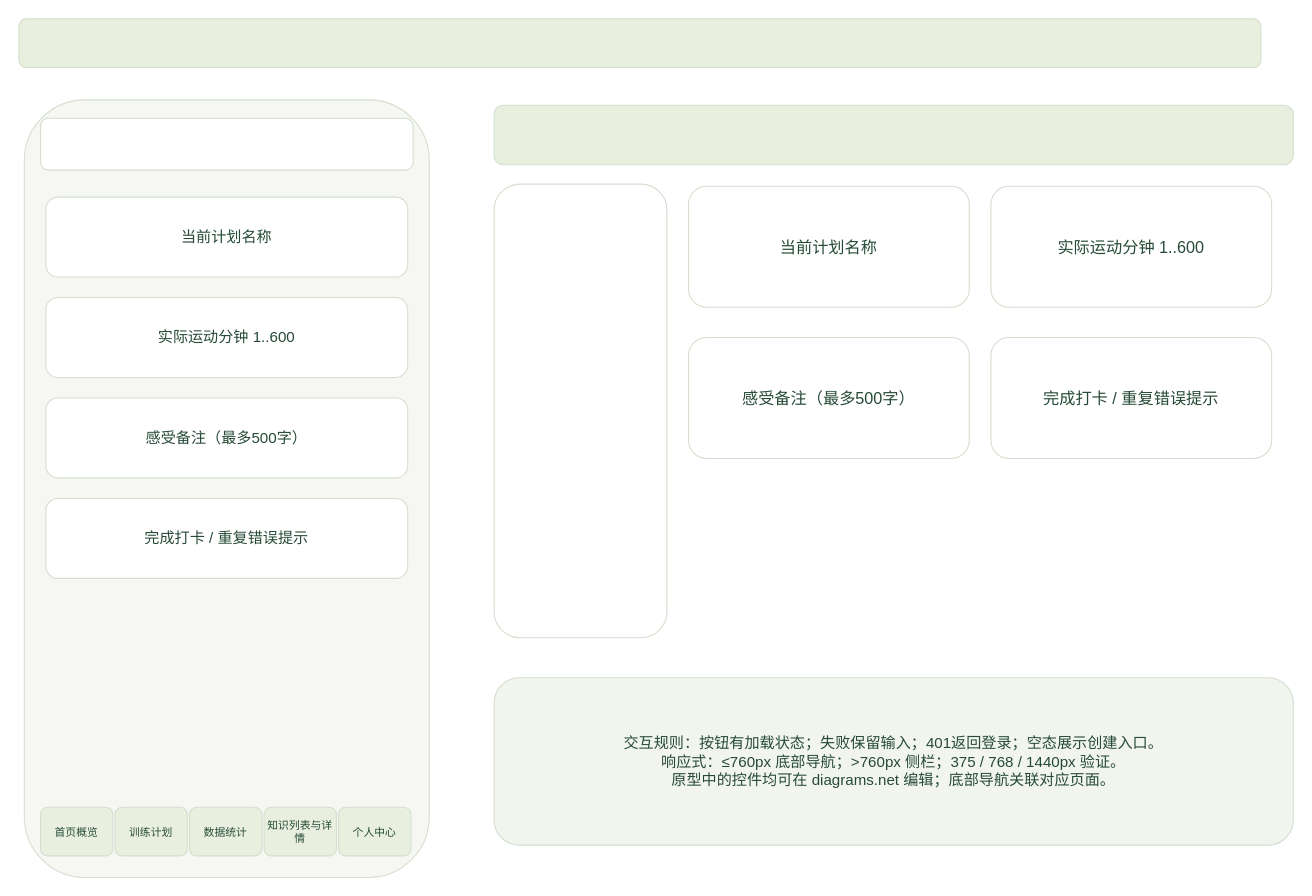
The diagram is 1312 pixels wide and 896 high, and some of its shapes have lost their labels. Each missing label, with the centre of its shape:
"FitStreak EN A" belongs at [226,143].
"FitStreak · 打卡表单" belongs at [639,43].
"FitStreak 今日概览 训练计划 运动数据 健身知识 个人中心" belongs at [580,410].
"桌面布局 1440px → 左侧导航 + 内容网格" belongs at [893,134].
